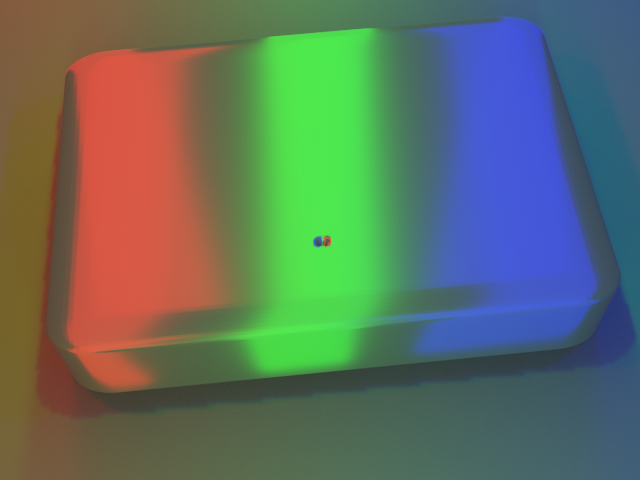dent: (299, 221, 340, 262)
